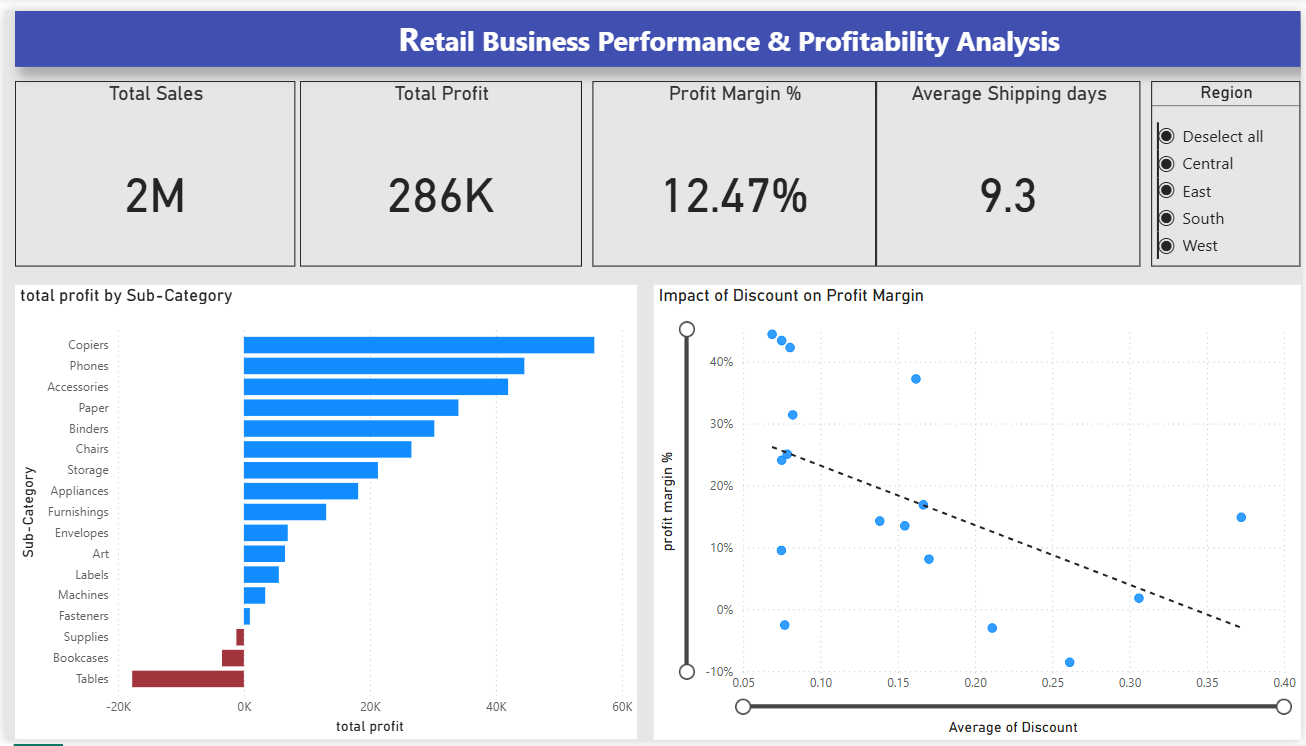

The page's visual inventory and layout, read from the dashboard file:
{"tool":"powerbi","page":{"name":"Page 1","canvas":[1280,720],"ordinal":0},"visuals":[{"type":"card","title":"Total Profit","fields":{"Values":["Sample - Superstore.total profit"]},"box":[291.4,69.3,278.5,183.2],"z":0},{"type":"card","title":"Total Sales","fields":{"Values":["Sample - Superstore.total sales"]},"box":[10.1,69.3,277,183.2],"z":1000},{"type":"card","title":"Profit Margin %","fields":{"Values":["Sample - Superstore.profit margin %"]},"box":[580,69.3,279.9,183.2],"z":2000},{"type":"clusteredBarChart","fields":{"Category":["Sample - Superstore.Sub-Category"],"Y":["Sample - Superstore.total profit"]},"box":[10.1,269.8,614.6,448.7],"z":3000},{"type":"scatterChart","title":"Impact of Discount on Profit Margin","fields":{"Category":["Sample - Superstore.Sub-Category"],"X":["Avg(Sample - Superstore.Discount)"],"Y":["Sample - Superstore.profit margin %"]},"box":[640.6,269.8,639.1,448.7],"z":4000},{"type":"listSlicer","fields":{"Values":["Sample - Superstore.Region"]},"box":[1132.6,69.3,147.2,183.2],"z":5000},{"type":"textbox","box":[10.1,0,1269.6,54.8],"z":6000},{"type":"card","title":"Average Shipping days","fields":{"Values":["Sample - Superstore.avg shipping days"]},"box":[859.9,69.3,261.1,183.2],"z":7000}]}

Visuals, with their boxes in screenshot pixels (x1, y1, x2, y2), scaled from the page's 1280x720 canvas onto the 1306x746 screenshot:
"Total Profit" card: bbox=(297, 72, 581, 262)
"Total Sales" card: bbox=(10, 72, 293, 262)
"Profit Margin %" card: bbox=(592, 72, 877, 262)
clusteredBarChart - Sample - Superstore.Sub-Category x Sample - Superstore.total profit: bbox=(10, 280, 637, 744)
"Impact of Discount on Profit Margin" scatterChart: bbox=(654, 280, 1305, 744)
listSlicer - Sample - Superstore.Region: bbox=(1156, 72, 1305, 262)
textbox: bbox=(10, 0, 1305, 57)
"Average Shipping days" card: bbox=(877, 72, 1144, 262)
